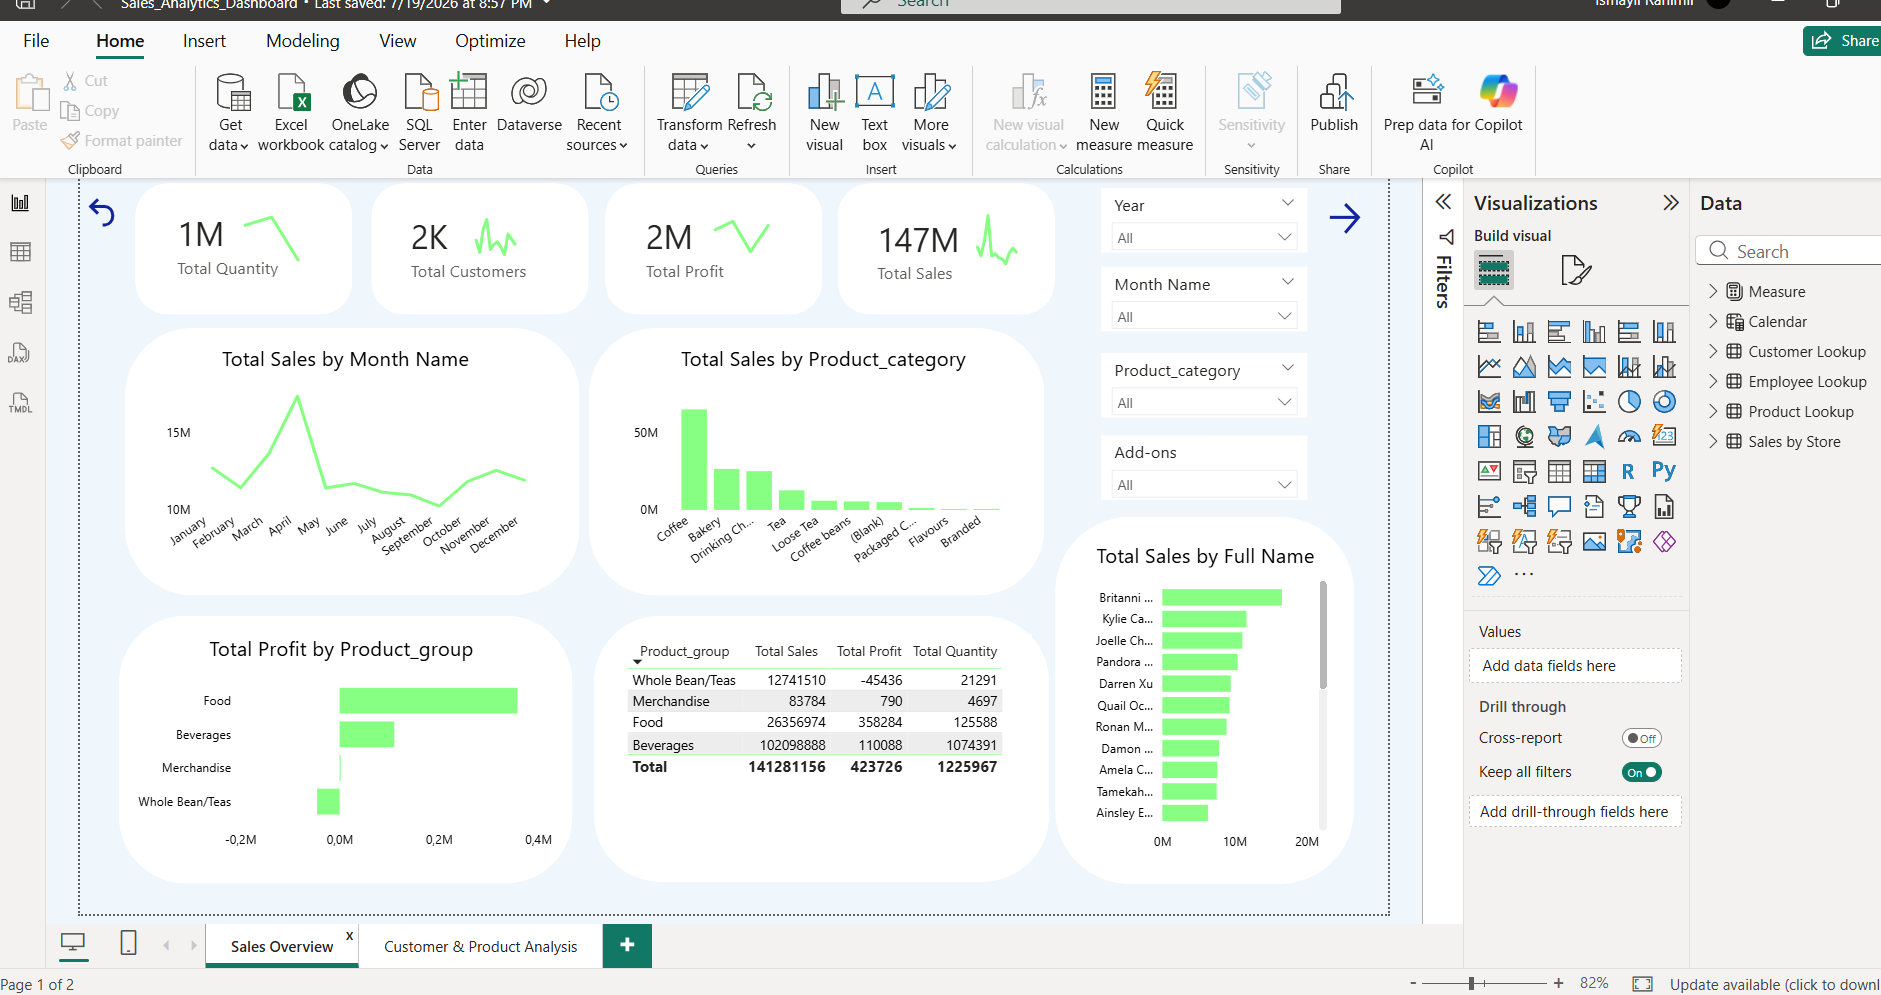

The page's visual inventory and layout, read from the dashboard file:
{"tool":"powerbi","page":{"name":"Sales Overview","canvas":[1280,720],"ordinal":0},"visuals":[{"type":"shape","box":[741.1,4.3,212.7,129],"z":0,"group":"g6"},{"type":"group","id":"g1","title":"Group 1","box":[497.1,146.4,444.9,262],"z":0},{"type":"shape","box":[497.1,146.4,445.9,261.8],"z":0,"group":"g1"},{"type":"shape","box":[953.8,331.4,292.8,359.4],"z":0,"group":"g4"},{"type":"shape","box":[38,428.2,444,262.3],"z":0,"group":"g3"},{"type":"group","id":"g2","title":"Group 2","box":[43.5,146.4,444,262],"z":1000},{"type":"columnChart","fields":{"Category":["Product Lookup.product_category"],"Y":["Measure.Total Sales"]},"box":[536.2,162.6,381,230.3],"z":1000,"group":"g1"},{"type":"slicer","fields":{"Values":["Product Lookup.product_category"]},"box":[999,171.5,201.7,63.1],"z":1000,"group":"g7"},{"type":"barChart","fields":{"Category":["Employee Lookup.Full Name"],"Y":["Measure.Total Sales"]},"box":[977.3,354.2,248.2,313],"z":1000,"group":"g4"},{"type":"barChart","fields":{"Category":["Product Lookup.product_group"],"Y":["Measure.Total Profit"]},"box":[44.2,446.4,423.5,219.8],"z":1000,"group":"g3"},{"type":"shape","box":[513.3,4.3,212.7,129],"z":2000,"group":"g6"},{"type":"actionButton","box":[1217.3,20,51.3,39.9],"z":2000},{"type":"shape","box":[284.1,4.3,212.7,129],"z":3000,"group":"g6"},{"type":"group","id":"g3","title":"Group 1","box":[38,428.2,444,262.3],"z":3000},{"type":"shape","box":[53.6,4.3,212.7,129],"z":4000,"group":"g6"},{"type":"group","id":"g4","title":"Group 1","box":[953.8,331.4,292.8,359.4],"z":4000},{"type":"slicer","fields":{"Values":["Calendar.Year"]},"box":[999,9.6,201.7,63.1],"z":5000,"group":"g7"},{"type":"shape","box":[43.5,146.4,444.8,261.4],"z":5000,"group":"g2"},{"type":"group","id":"g5","title":"Group 3","box":[502.9,427.5,445.7,260.6],"z":5000},{"type":"shape","box":[502.9,427.5,445.7,260.6],"z":5000,"group":"g5"},{"type":"lineChart","fields":{"Category":["Calendar.Month Name"],"Y":["Measure.Total Sales"]},"box":[68.2,162.7,382.7,230.3],"z":5012,"group":"g2"},{"type":"actionButton","box":[2.9,14.5,50.7,37.7],"z":6000},{"type":"slicer","fields":{"Values":["Calendar.Month Name"]},"box":[999,86.4,201.7,63.1],"z":6000,"group":"g7"},{"type":"group","id":"g6","title":"Group 4","box":[53.6,4.3,900,129],"z":7000},{"type":"slicer","fields":{"Values":["Product Lookup.product_group"]},"box":[999,251.1,201.7,63.1],"z":7000,"group":"g7"},{"type":"group","id":"g7","title":"Group 5","box":[999,9.6,201.7,304.6],"z":8000},{"type":"cardVisual","fields":{"Data":["Measure.Total Sales"]},"box":[751,20.4,190.8,99],"z":8000,"group":"g6"},{"type":"cardVisual","fields":{"Data":["Measure.Total Profit"]},"box":[524.8,17.9,190.8,99],"z":9000,"group":"g6"},{"type":"cardVisual","fields":{"Data":["Measure.Total Customers"]},"box":[294.9,17.9,190.8,99],"z":10000,"group":"g6"},{"type":"cardVisual","fields":{"Data":["Measure.Total Quantity"]},"box":[65.7,15,189.9,98.6],"z":11000,"group":"g6"},{"type":"lineChart","fields":{"Y":["Measure.Total Sales"],"Category":["Calendar.Month Number"]},"box":[859.8,17.9,81.9,73.4],"z":12000,"group":"g6"},{"type":"lineChart","fields":{"Y":["Measure.Total Profit"],"Category":["Calendar.Quarter"]},"box":[606.7,20.4,81.9,73.4],"z":13000,"group":"g6"},{"type":"lineChart","fields":{"Category":["Calendar.Month Number"],"Y":["Measure.Total Profit"]},"box":[369.5,17.9,81.9,73.4],"z":14000,"group":"g6"},{"type":"lineChart","fields":{"Y":["Measure.Total Quantity"],"Category":["Calendar.Year"]},"box":[146.9,22.8,81.9,63.6],"z":15000,"group":"g6"},{"type":"tableEx","fields":{"Values":["Product Lookup.product_group","Measure.Total Sales","Measure.Total Profit","Measure.Total Quantity"]},"box":[530.2,445.4,401.2,219.8],"z":19004,"group":"g5"}]}

Visuals, with their boxes on the page's 1280x720 design canvas (x1, y1, x2, y2). These are canvas units, not pixel positions in the 1881x995 screenshot, which may show the page scaled, cropped or inside an application window:
shape: [left=741, top=4, right=954, bottom=133]
"Group 1" group: [left=497, top=146, right=942, bottom=408]
shape: [left=497, top=146, right=943, bottom=408]
shape: [left=954, top=331, right=1247, bottom=691]
shape: [left=38, top=428, right=482, bottom=690]
"Group 2" group: [left=44, top=146, right=488, bottom=408]
columnChart - Product Lookup.product_category x Measure.Total Sales: [left=536, top=163, right=917, bottom=393]
slicer - Product Lookup.product_category: [left=999, top=172, right=1201, bottom=235]
barChart - Employee Lookup.Full Name x Measure.Total Sales: [left=977, top=354, right=1226, bottom=667]
barChart - Product Lookup.product_group x Measure.Total Profit: [left=44, top=446, right=468, bottom=666]
shape: [left=513, top=4, right=726, bottom=133]
actionButton: [left=1217, top=20, right=1269, bottom=60]
shape: [left=284, top=4, right=497, bottom=133]
"Group 1" group: [left=38, top=428, right=482, bottom=690]
shape: [left=54, top=4, right=266, bottom=133]
"Group 1" group: [left=954, top=331, right=1247, bottom=691]
slicer - Calendar.Year: [left=999, top=10, right=1201, bottom=73]
shape: [left=44, top=146, right=488, bottom=408]
"Group 3" group: [left=503, top=428, right=949, bottom=688]
shape: [left=503, top=428, right=949, bottom=688]
lineChart - Calendar.Month Name x Measure.Total Sales: [left=68, top=163, right=451, bottom=393]
actionButton: [left=3, top=14, right=54, bottom=52]
slicer - Calendar.Month Name: [left=999, top=86, right=1201, bottom=150]
"Group 4" group: [left=54, top=4, right=954, bottom=133]
slicer - Product Lookup.product_group: [left=999, top=251, right=1201, bottom=314]
"Group 5" group: [left=999, top=10, right=1201, bottom=314]
cardVisual - Measure.Total Sales: [left=751, top=20, right=942, bottom=119]
cardVisual - Measure.Total Profit: [left=525, top=18, right=716, bottom=117]
cardVisual - Measure.Total Customers: [left=295, top=18, right=486, bottom=117]
cardVisual - Measure.Total Quantity: [left=66, top=15, right=256, bottom=114]
lineChart - Measure.Total Sales x Calendar.Month Number: [left=860, top=18, right=942, bottom=91]
lineChart - Measure.Total Profit x Calendar.Quarter: [left=607, top=20, right=689, bottom=94]
lineChart - Calendar.Month Number x Measure.Total Profit: [left=370, top=18, right=451, bottom=91]
lineChart - Measure.Total Quantity x Calendar.Year: [left=147, top=23, right=229, bottom=86]
tableEx - Product Lookup.product_group x Measure.Total Sales: [left=530, top=445, right=931, bottom=665]
